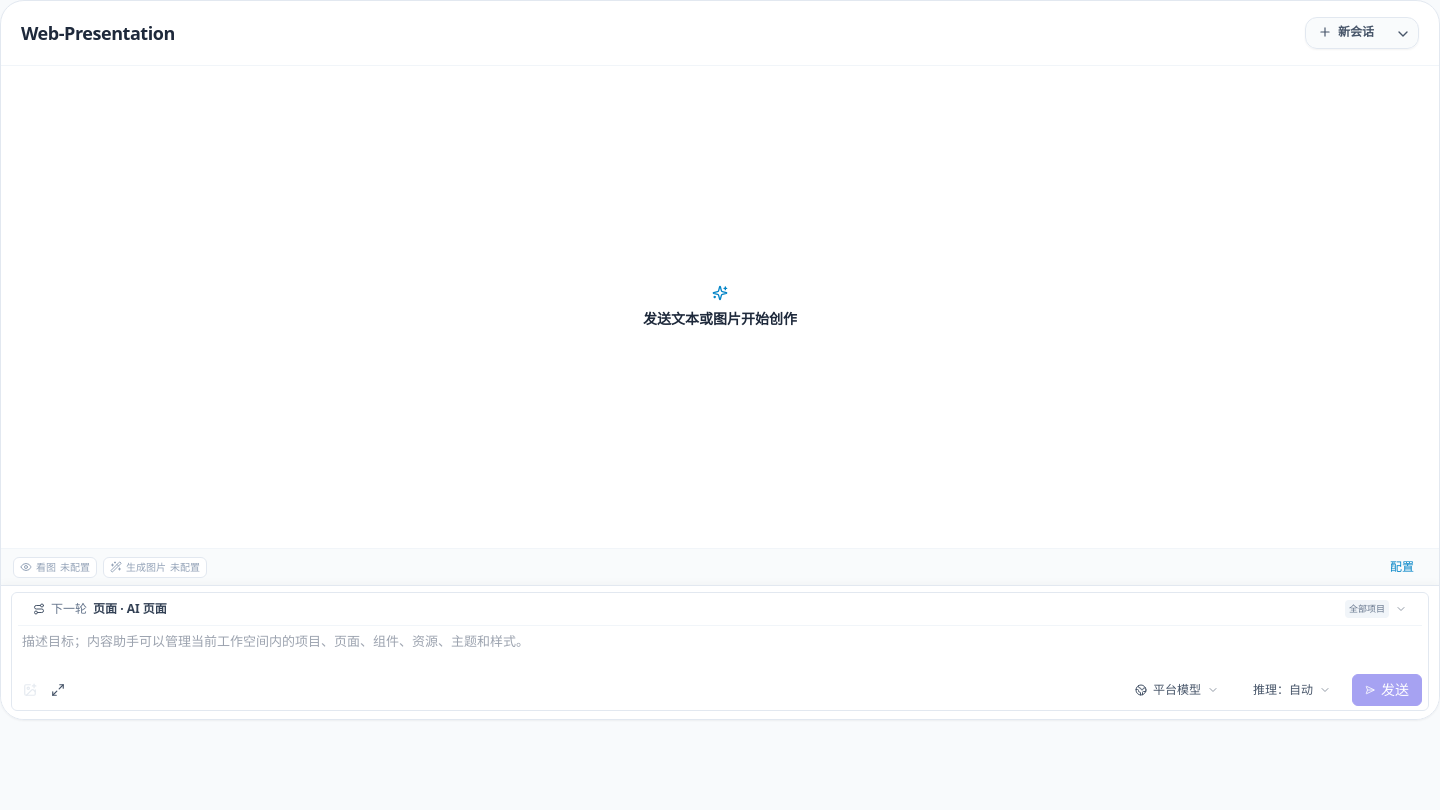
AgentConversationPanel › 发送后首个 SSE 可见事件到达前应显示等待输出提示
Type "帮我整理页面资源" into the text box with placeholder "描述目标；内容助手可以管理当前工作空间内的项目、页面、组件、资源、主题和样式。".
click(720, 648); type("帮我整理页面资源")  # box x1=18 y1=630 x2=1422 y2=666
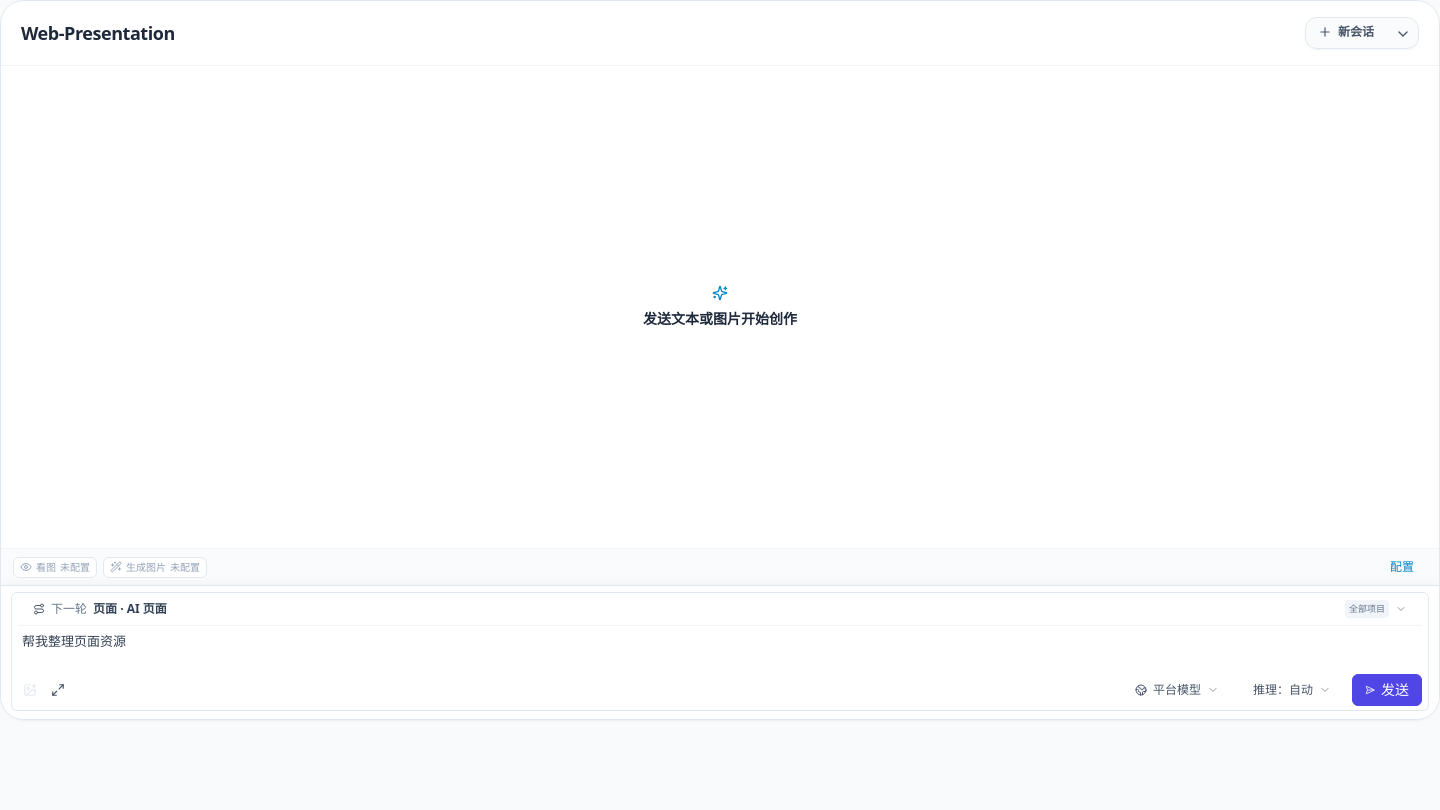
Click the button "发送".
click(1387, 690)  # box x1=1352 y1=674 x2=1422 y2=706
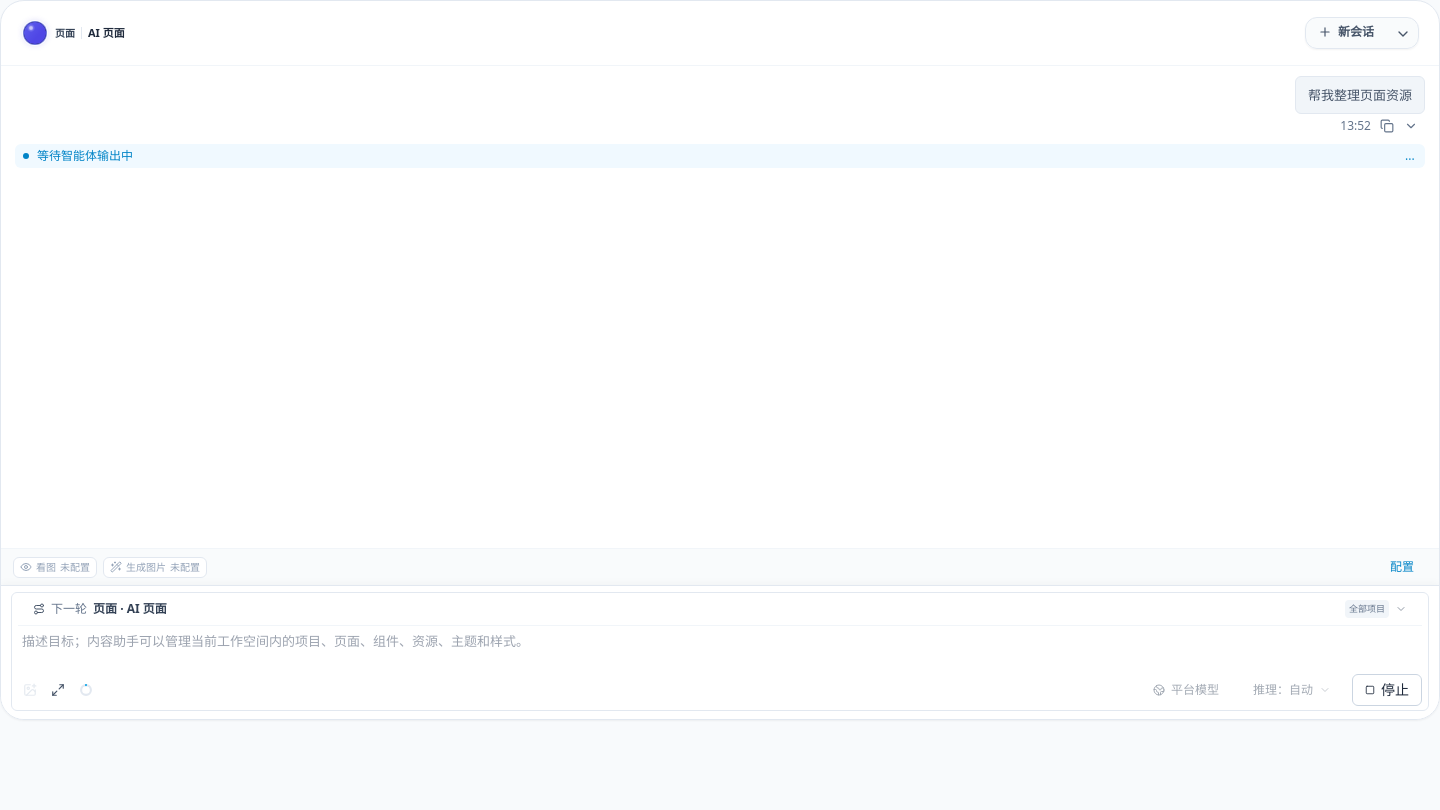
Check: the text "帮我整理页面资源" is shown, box x1=1308 y1=85 x2=1412 y2=105
Check: the text "等待智能体输出中" is shown, box x1=37 y1=147 x2=133 y2=164
